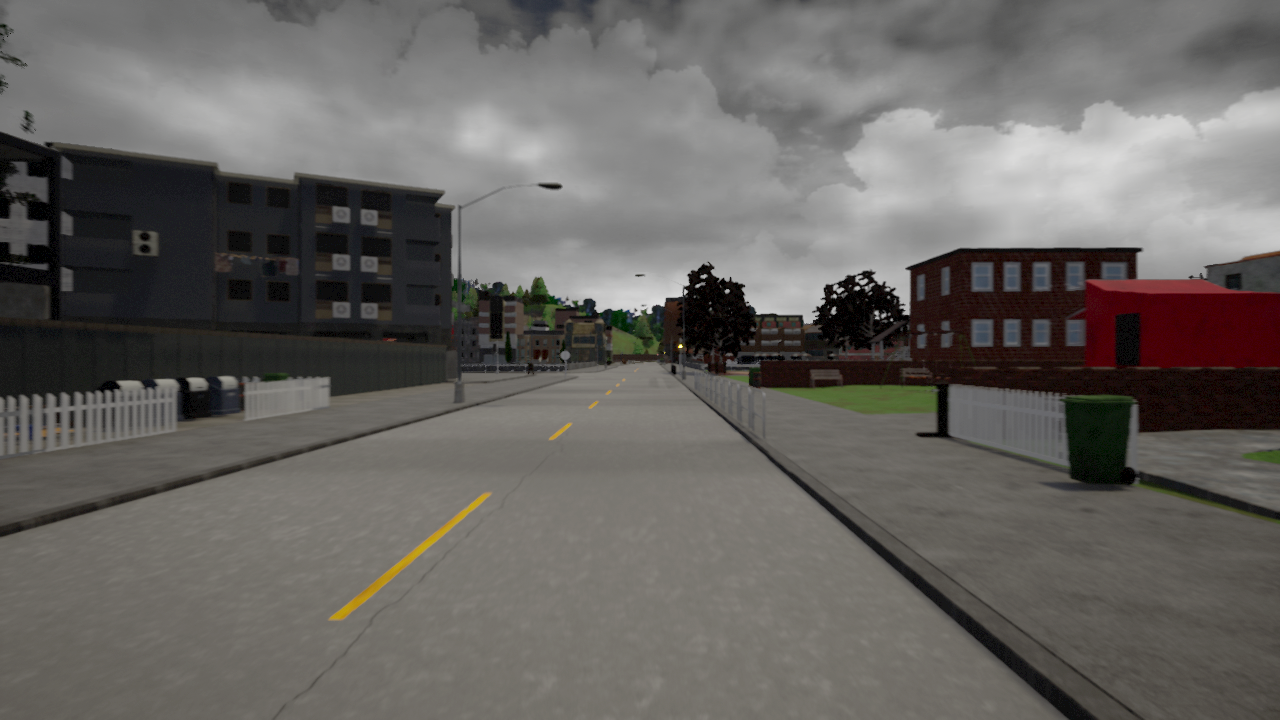yellow: (677, 341, 683, 355)
